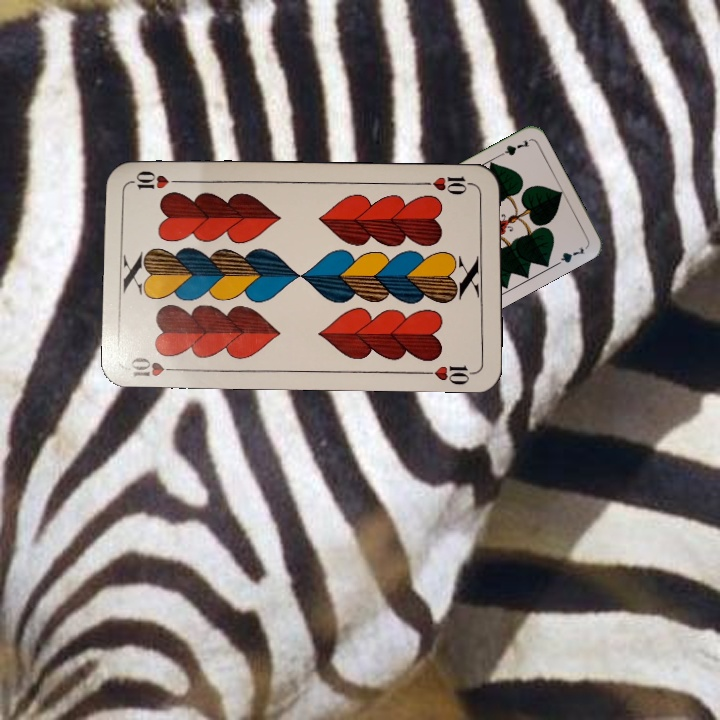G7: (493, 135, 532, 160)
H10: (419, 172, 478, 198), (126, 353, 185, 379)
